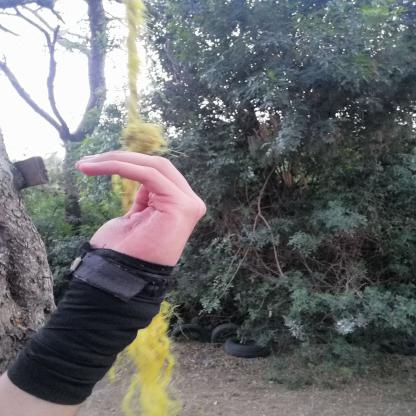HAA: (48, 144, 222, 287)
